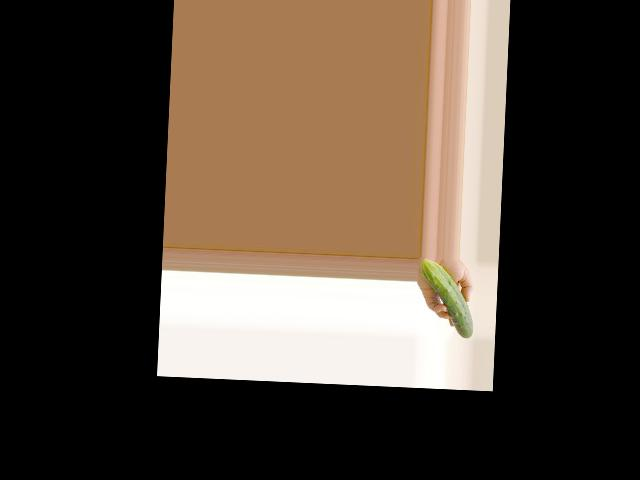cucumber: (417, 259, 475, 338)
